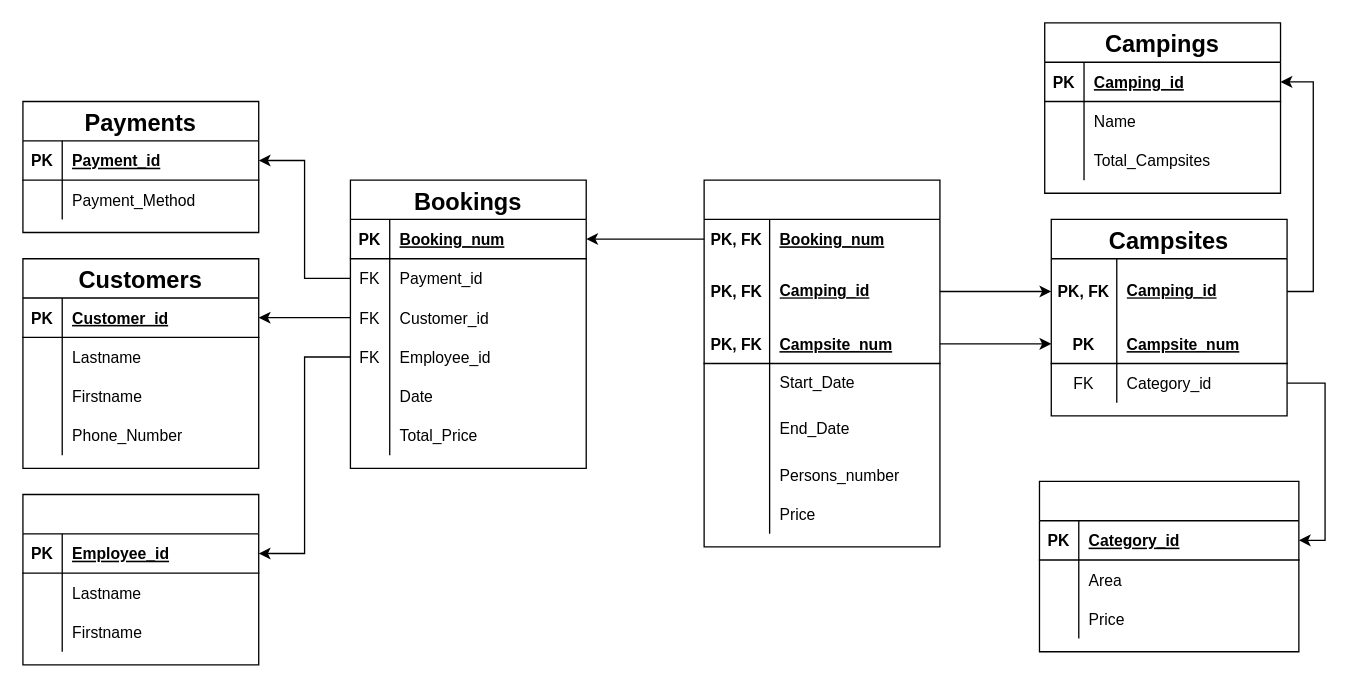
This 1358x688 diagram has some shape labels left out. The shapes that lost their labels are listed below. From the top down, each one's box as (x1, y1, x2, y2) in pixels, then its label:
(703, 179, 940, 547): Campsite_Bookings
(22, 493, 259, 665): Employees
(1038, 480, 1299, 652): Campsite_Categories
